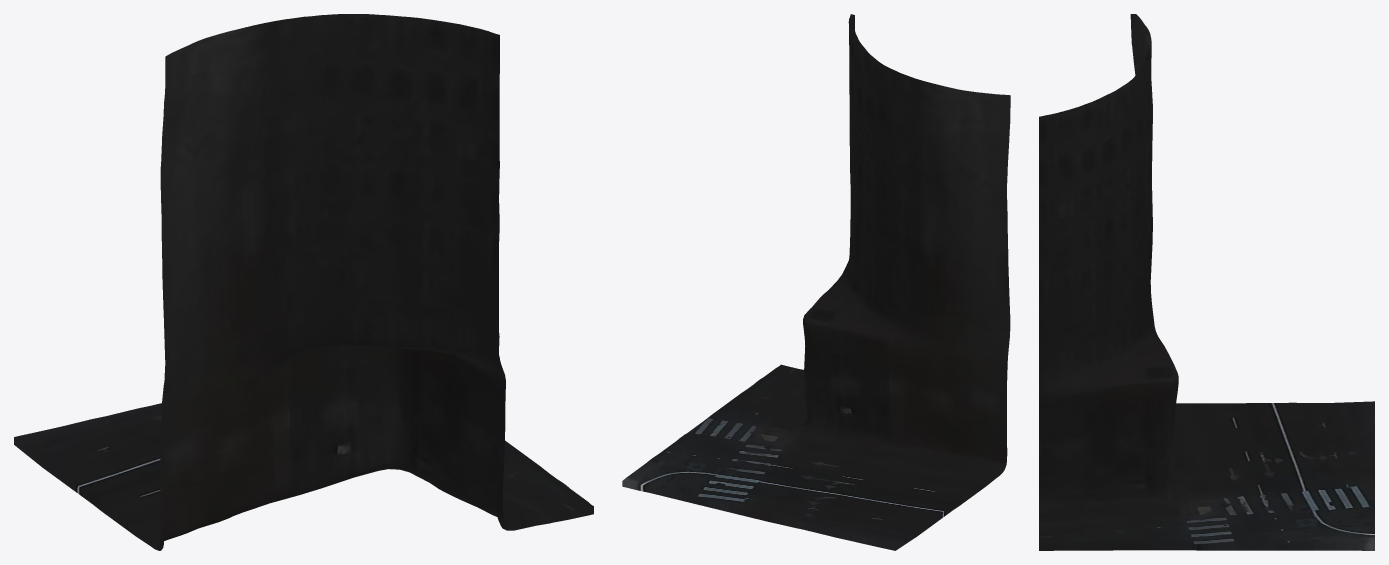
File: z20-167776-405232-h0-yup-uvflip-v3-world.glb
3 renders of one model, left to right at view 1: azimuth 30°, elevation 25°; view 2: azimuth 150°, elevation 25°; view 3: azimuth 270°, elevation 25°, orthographic. The views are drawn at different scales.
Bounding box in the file's own units: 30.16 × 39.44 × 30.32.
1 material, 1 textured.
